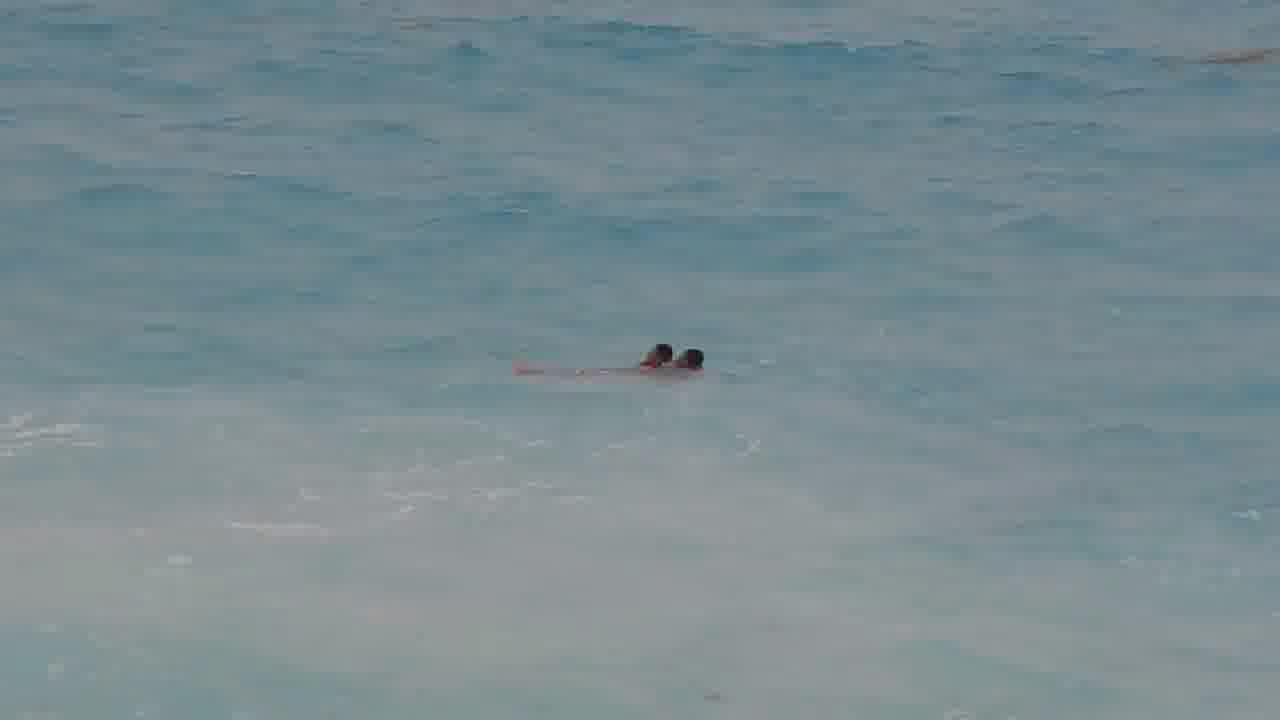swimmer: (672, 317, 721, 401), (638, 324, 661, 376)
